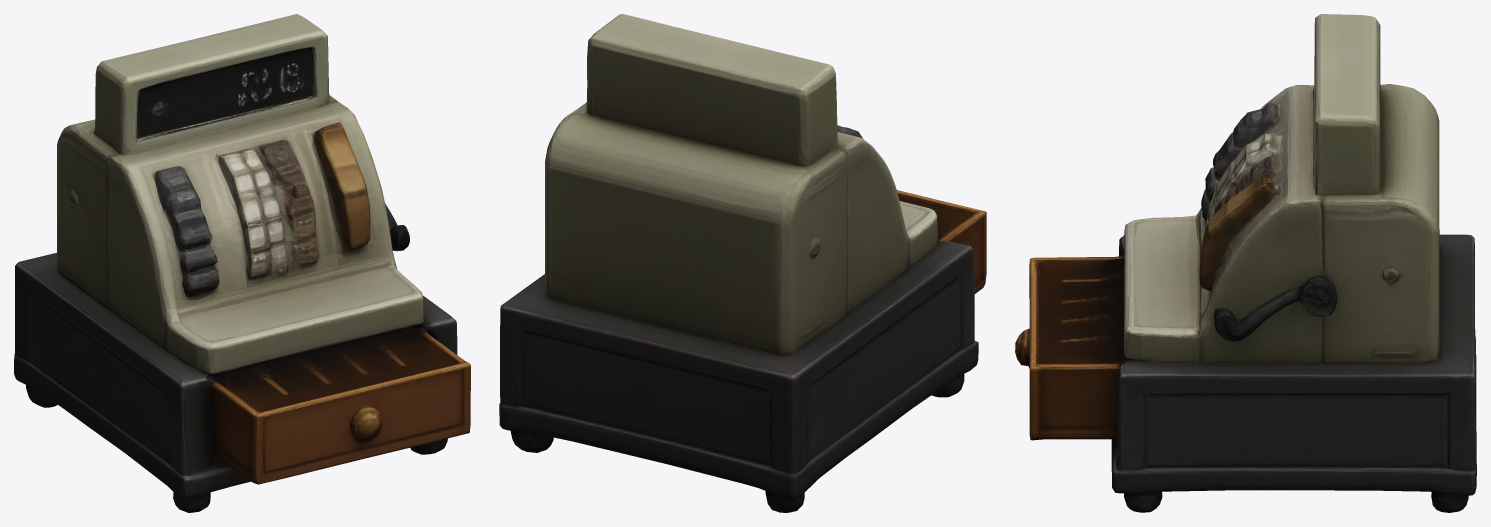
File: item_cash_register.glb
3 renders of one model, left to right at view 1: azimuth 30°, elevation 25°; view 2: azimuth 150°, elevation 25°; view 3: azimuth 270°, elevation 25°, orthographic. The views are drawn at different scales.
Visible parts, largest first — view 1: geometry_0; view 2: geometry_0; view 3: geometry_0.
Part boxes in pixels (box(x1,y1,x2,y2)): geometry_0: box(14, 14, 470, 512); geometry_0: box(499, 14, 986, 512); geometry_0: box(1015, 14, 1476, 512).
Size of the model in its own units: 0.362 by 0.4546 by 0.4935.
Materials: 1 (1 with a texture image).
